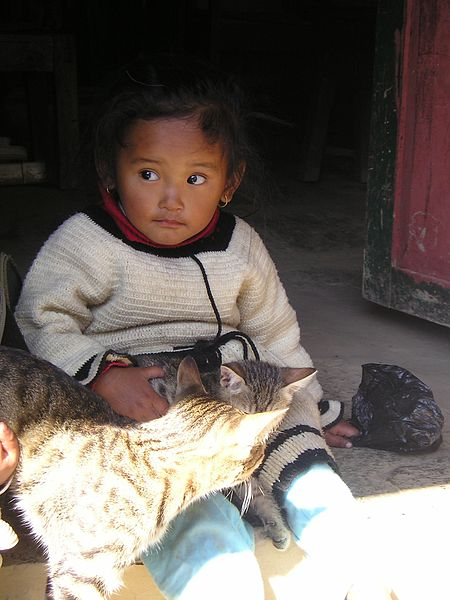cat: (1, 342, 291, 600), (112, 339, 323, 561)
human: (14, 64, 402, 600)
